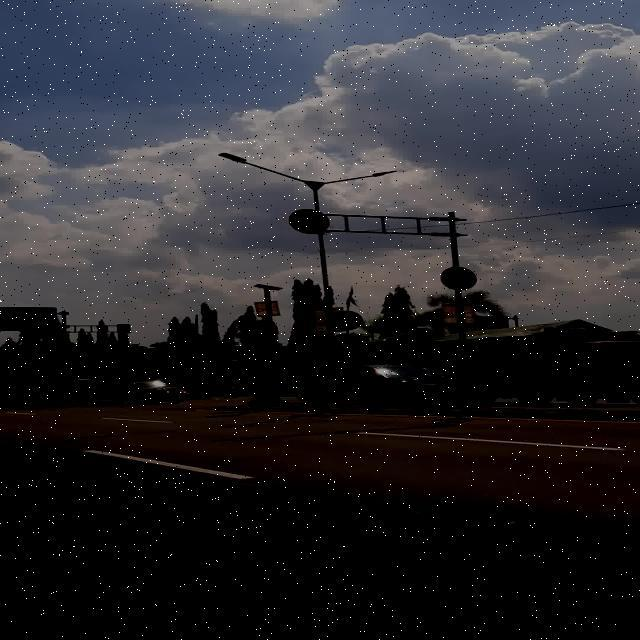Dilarang Putar Balik: (288, 209, 331, 234), (440, 266, 478, 290), (329, 310, 364, 330)
